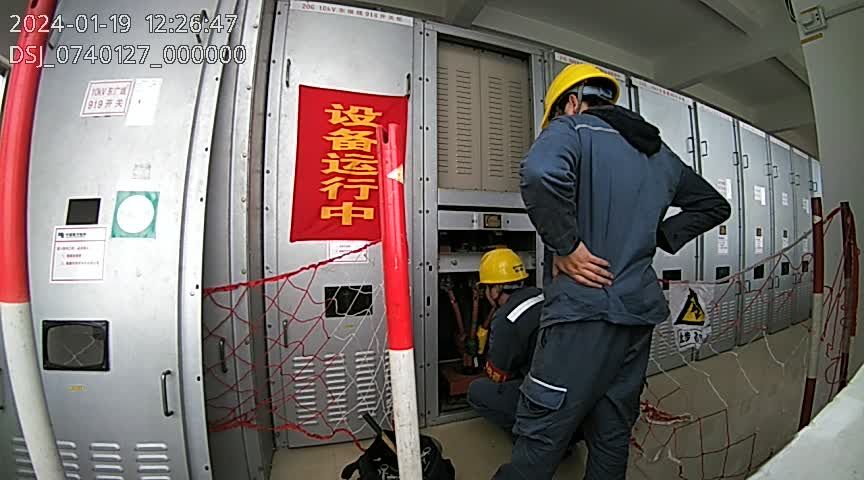downsuit: (491, 323, 653, 480), (467, 376, 521, 431)
halt: (541, 63, 620, 118), (472, 247, 528, 310)
hand: (554, 240, 614, 289)
inear: (483, 282, 505, 307), (565, 87, 582, 116)
person: (506, 62, 700, 480), (472, 247, 546, 435)
upsuit: (518, 112, 731, 325), (486, 287, 546, 380)
